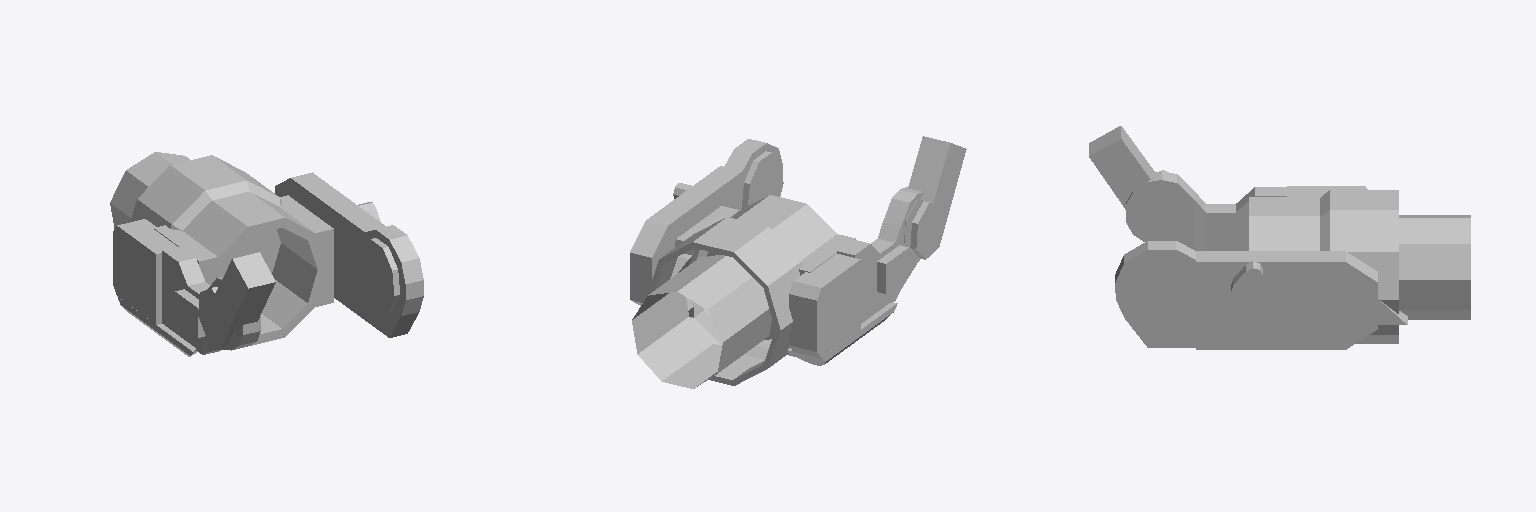
The model's file is l_scap.obj.
The picture shows the model from 3 angles: view 1: azimuth 30°, elevation 25°; view 2: azimuth 150°, elevation 25°; view 3: azimuth 270°, elevation 25°; orthographic projection.
Visible parts, largest first — view 1: <dummy_root>; view 2: <dummy_root>; view 3: <dummy_root>.
Boxes of the visible parts, x1,y1,x2,y2 form: <dummy_root>: [110, 152, 423, 356]; <dummy_root>: [630, 136, 966, 388]; <dummy_root>: [1089, 126, 1470, 349].
Bounding box in the file's own units: 0.1717 × 0.1279 × 0.2756.